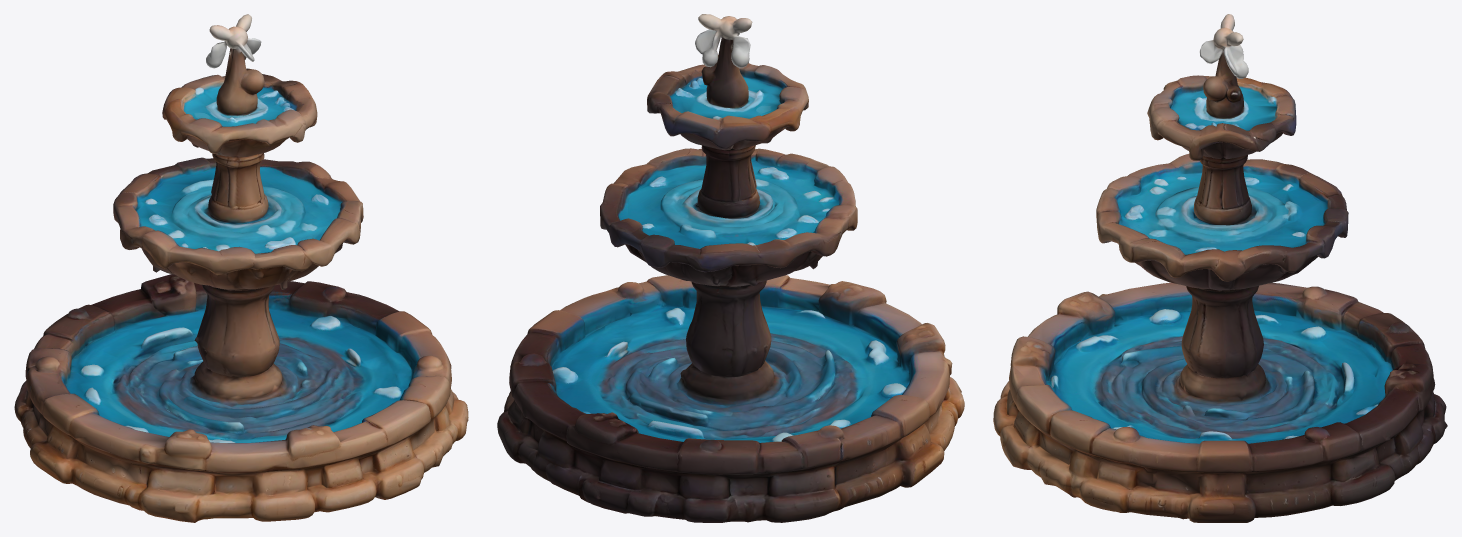
File: prop-fountain-small.glb
3 views of the same model, side by side, from view 1: azimuth 30°, elevation 25°; view 2: azimuth 150°, elevation 25°; view 3: azimuth 270°, elevation 25° (orthographic). The views are drawn at different scales.
Parts seen in each view (by area): view 1: tripo_node_f1a5d543-8d6f-42c7-817a-203fdf2d5bd4; view 2: tripo_node_f1a5d543-8d6f-42c7-817a-203fdf2d5bd4; view 3: tripo_node_f1a5d543-8d6f-42c7-817a-203fdf2d5bd4.
Boxes of the visible parts, x1,y1,x2,y2 form: tripo_node_f1a5d543-8d6f-42c7-817a-203fdf2d5bd4: (14,14,468,522); tripo_node_f1a5d543-8d6f-42c7-817a-203fdf2d5bd4: (497,14,964,522); tripo_node_f1a5d543-8d6f-42c7-817a-203fdf2d5bd4: (993,14,1447,522).
Bounding box in the file's own units: 1.37 × 1.5 × 1.37.
1 material, 1 textured.
